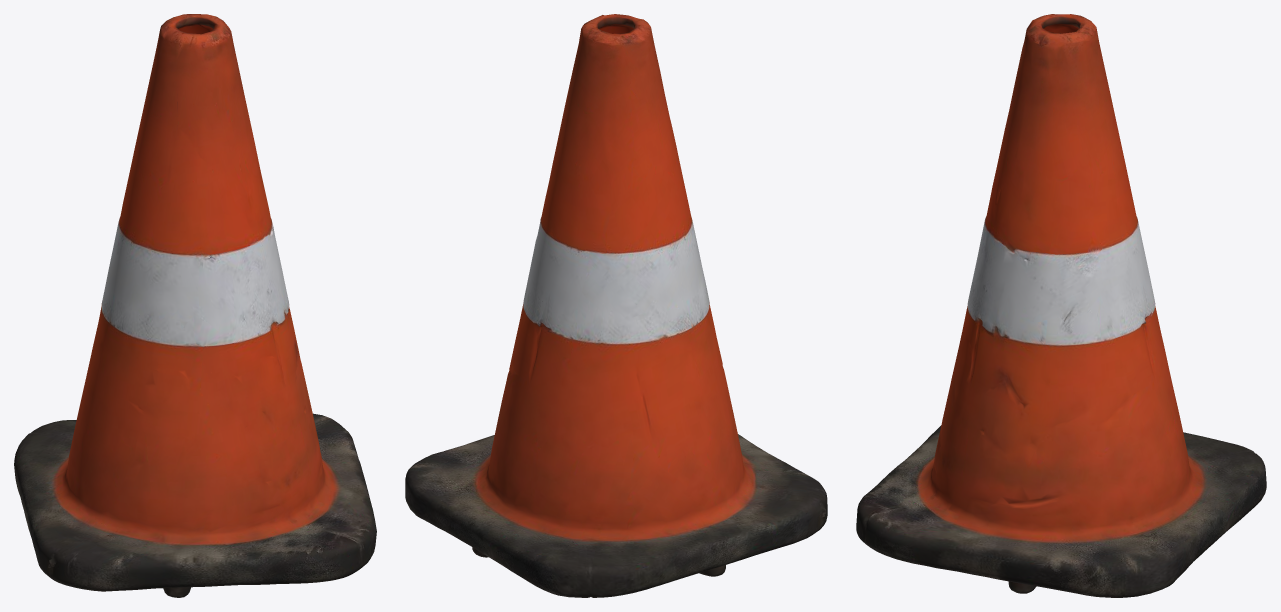
File: cone_traffic.glb
The picture shows the model from 3 angles, left to right: view 1: azimuth 30°, elevation 25°; view 2: azimuth 150°, elevation 25°; view 3: azimuth 270°, elevation 25°; orthographic projection.
Parts seen in each view (by area): view 1: tripo_node_50b4128f-8033-4e8b-8b31-ac731d8fc0ca; view 2: tripo_node_50b4128f-8033-4e8b-8b31-ac731d8fc0ca; view 3: tripo_node_50b4128f-8033-4e8b-8b31-ac731d8fc0ca.
Part boxes in pixels (x1,y1,x2,y2): tripo_node_50b4128f-8033-4e8b-8b31-ac731d8fc0ca: (14, 14, 376, 597); tripo_node_50b4128f-8033-4e8b-8b31-ac731d8fc0ca: (405, 14, 827, 597); tripo_node_50b4128f-8033-4e8b-8b31-ac731d8fc0ca: (856, 14, 1266, 597).
Bounding box in the file's own units: 0.7268 × 1 × 0.7304.
Materials: 1 (1 with a texture image).
